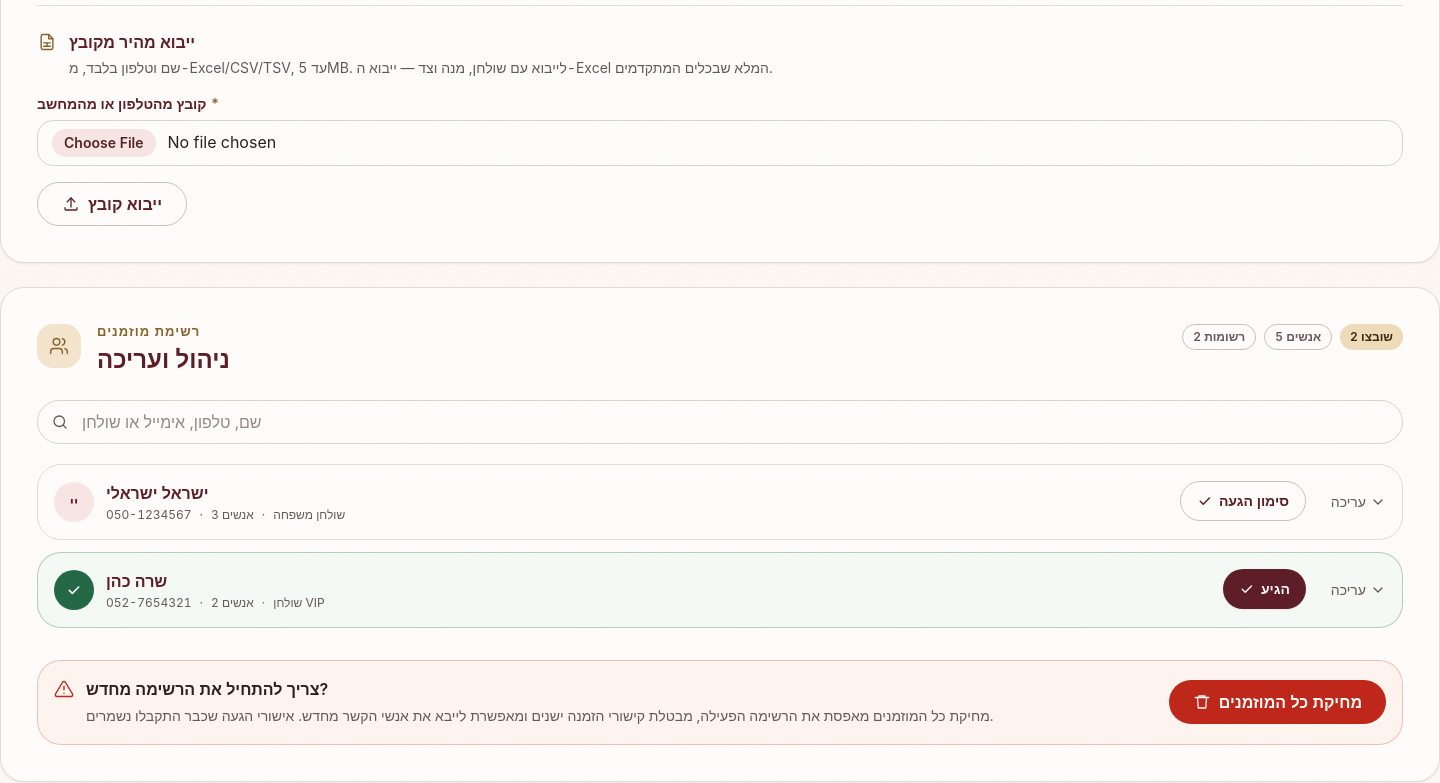
Scenario: GuestManagementPanel › offers a one-click way to clear a search with no results
(page scrolled)
Step 1. Type "לא קיים" into the search field named "חיפוש ברשימה" → (720,422), box [37,400,1403,444]
(page scrolled)
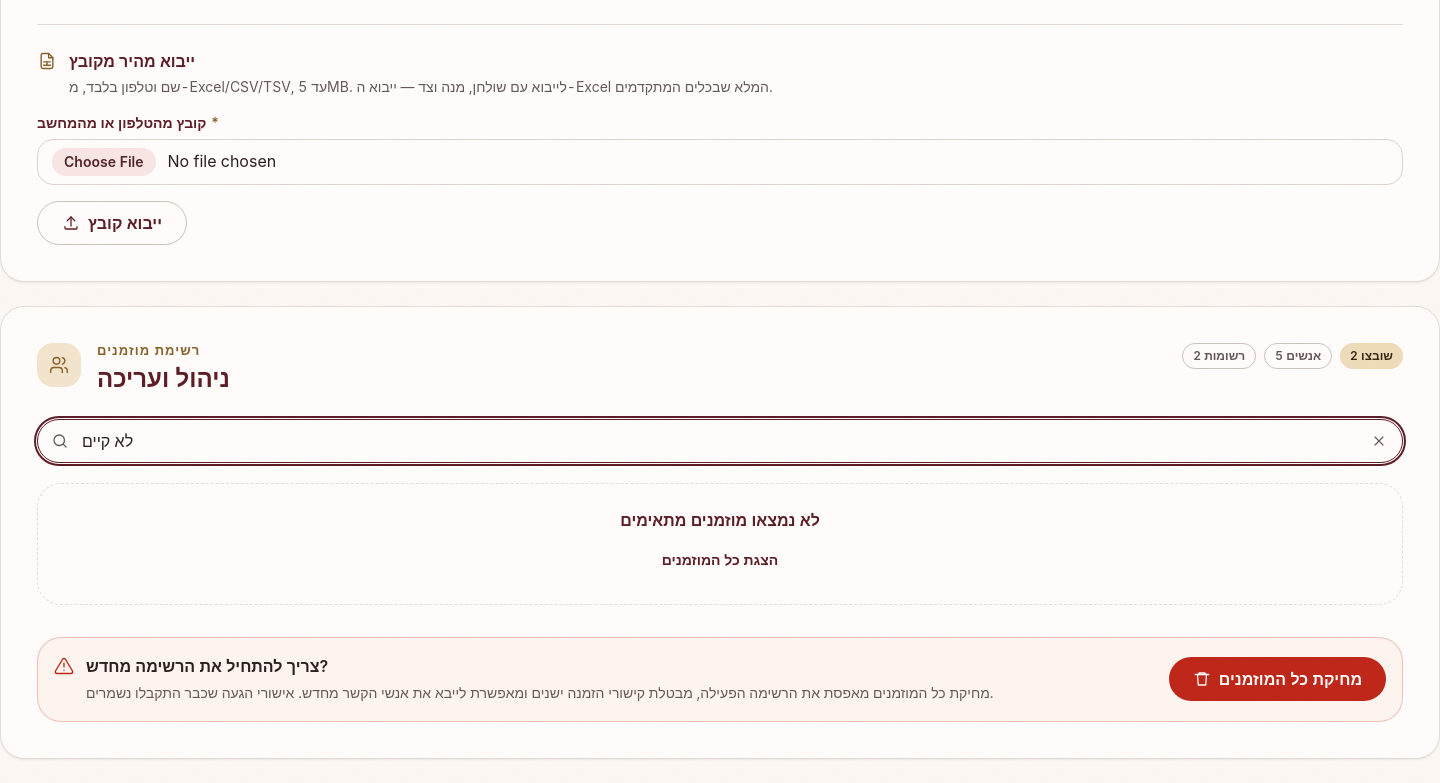
Expected: the text "לא נמצאו מוזמנים מתאימים" is shown, [620,510,820,530]
Step 2. Click the button named "ניקוי החיפוש" → (1379,441), box [1363,425,1395,457]
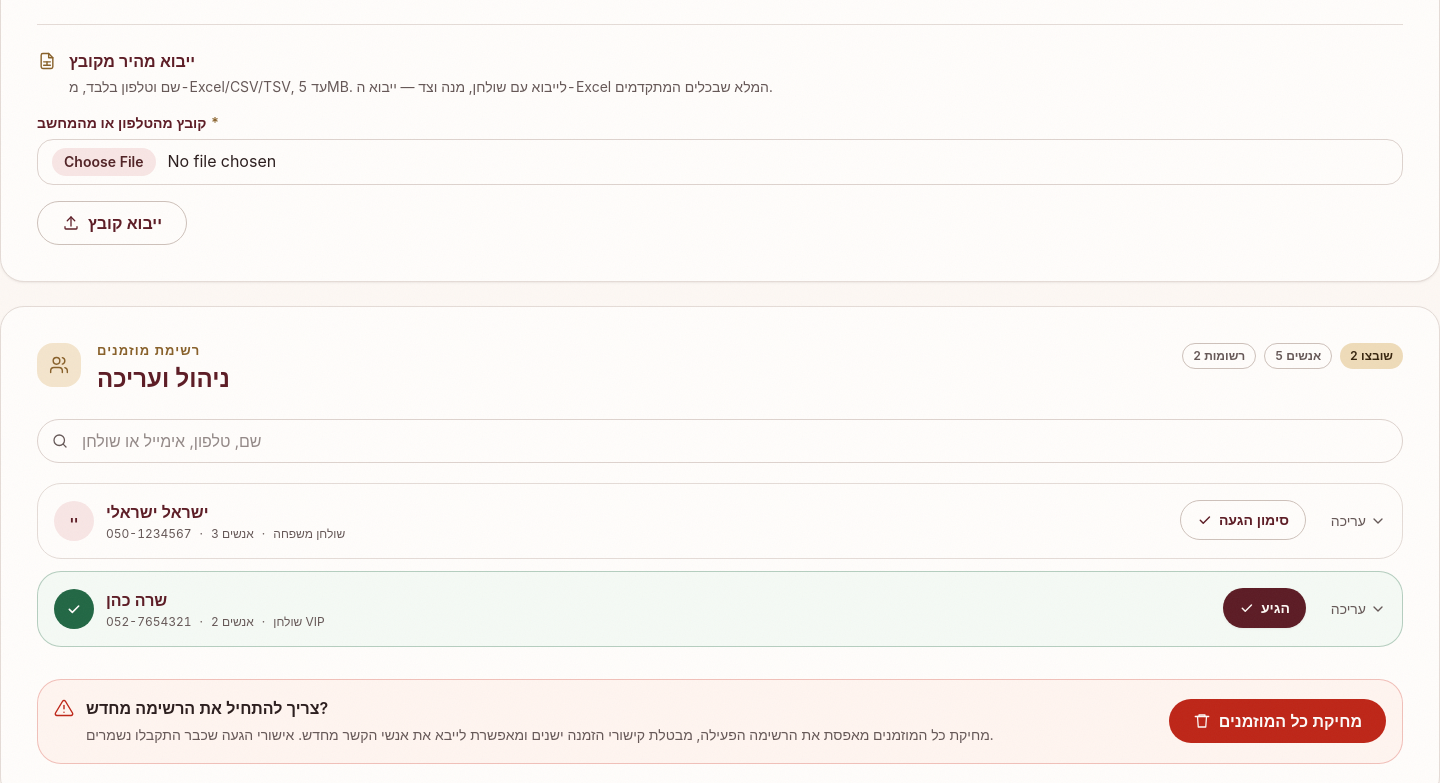
Expected: the text "ישראל ישראלי" is shown, [106,502,208,522]
Expected: the text "שרה כהן" is shown, [106,590,167,610]
